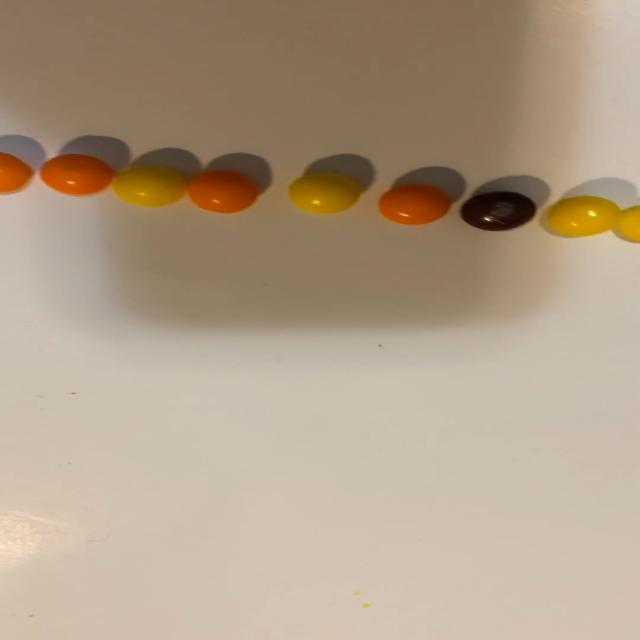smartie: (187, 169, 258, 213), (111, 165, 186, 206), (547, 195, 622, 236), (288, 172, 361, 214), (39, 153, 113, 194), (460, 191, 536, 230), (379, 184, 451, 224)
